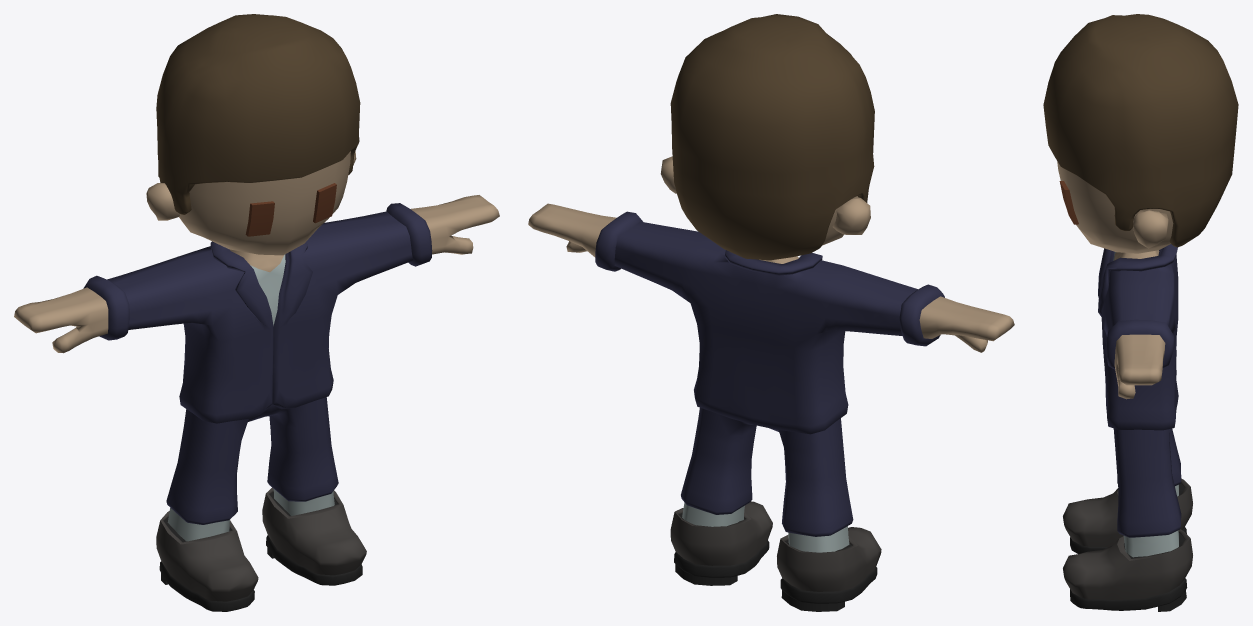
Rendered from PS_Npc01.fbx.
3 views of the same model, side by side, from view 1: azimuth 30°, elevation 25°; view 2: azimuth 150°, elevation 25°; view 3: azimuth 270°, elevation 25° (orthographic).
Parts seen in each view (by area): view 1: PS_Npc01; view 2: PS_Npc01; view 3: PS_Npc01.
Boxes of the visible parts, bbox=[...] form: PS_Npc01: bbox=[14, 14, 499, 611]; PS_Npc01: bbox=[528, 14, 1014, 611]; PS_Npc01: bbox=[1043, 14, 1238, 611].
Bounding box in the file's own units: 1.5 × 1.68 × 0.546.
